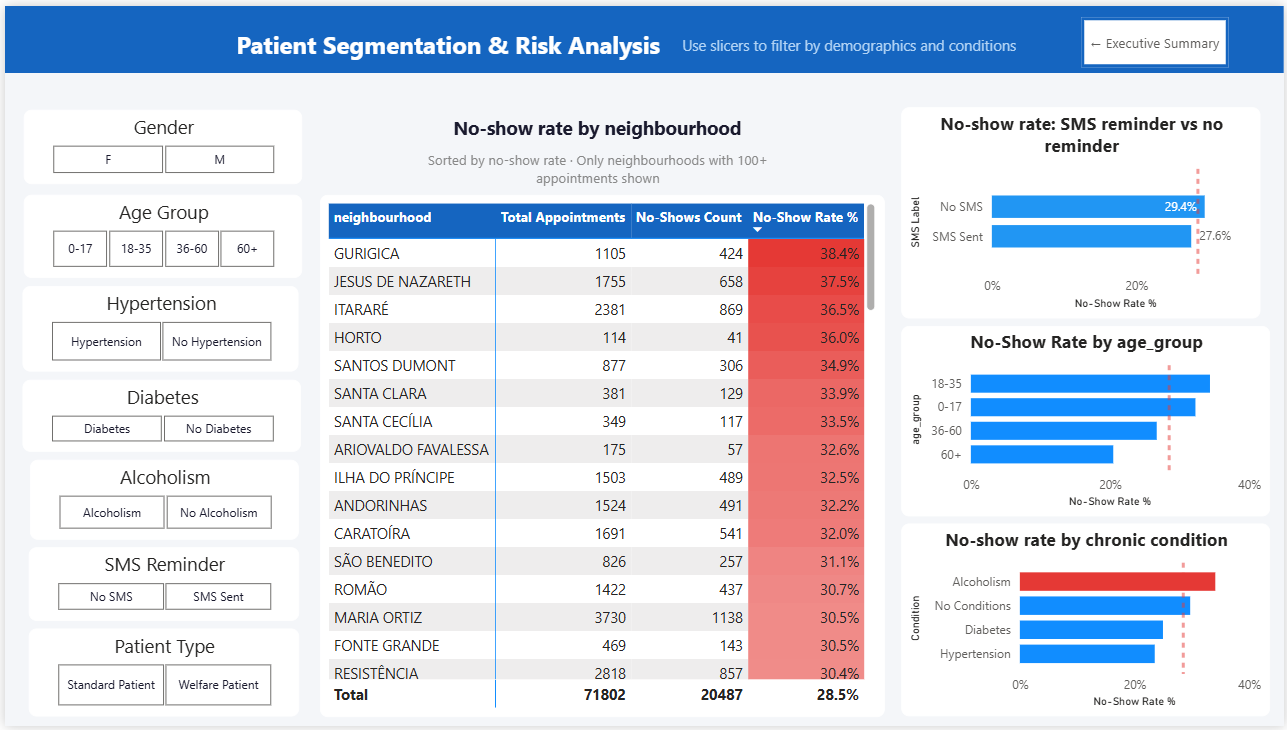

This screenshot's page, from the dashboard's own definition file:
{"tool":"powerbi","page":{"name":"Patient Segmentation","canvas":[1280,720],"ordinal":1},"visuals":[{"type":"shape","box":[0,0,1279.7,67],"z":0},{"type":"textbox","box":[226.2,17.5,492.5,55],"z":1000},{"type":"textbox","box":[528.8,23.8,487.5,100],"z":2000},{"type":"slicer","title":"Gender","fields":{"Values":["cleaned_appointments.gender"]},"box":[18.6,104.3,278.6,74.3],"z":3000},{"type":"slicer","title":"Age Group","fields":{"Values":["cleaned_appointments.age_group"]},"box":[18.6,188.6,278.6,82.9],"z":4000},{"type":"slicer","title":"Hypertension","fields":{"Values":["cleaned_appointments.Hypertension Label"]},"box":[18.1,279.9,276.3,85.7],"z":5000},{"type":"slicer","title":"Diabetes","fields":{"Values":["cleaned_appointments.Diabetes Label"]},"box":[18.1,374,278.7,72.4],"z":6000},{"type":"slicer","title":"Alcoholism","fields":{"Values":["cleaned_appointments.Alcoholism Label"]},"box":[25.3,453.6,269,79.6],"z":7000},{"type":"slicer","title":"SMS Reminder","fields":{"Values":["cleaned_appointments.SMS Label"]},"box":[24.1,541.7,270.2,73.6],"z":8000},{"type":"slicer","title":"Patient Type","fields":{"Values":["cleaned_appointments.Scholarship Label"]},"box":[24.1,622.5,270.2,88.1],"z":9000},{"type":"pivotTable","title":"No-show rate by neighbourhood","fields":{"Rows":["cleaned_appointments.neighbourhood"],"Values":["_measures.Total Appointments","_measures.No-Shows Count","_measures.No-Show Rate %"]},"box":[314.9,188.2,564.6,522.4],"z":10000},{"type":"textbox","box":[343.8,103.8,497.1,59.1],"z":11000},{"type":"textbox","box":[380,139.9,425.9,47.1],"z":12000},{"type":"clusteredBarChart","title":"No-show rate: SMS reminder vs no reminder","fields":{"Category":["cleaned_appointments.SMS Label"],"Y":["_measures.No-Show Rate %"]},"box":[896.4,101.3,359.5,211.1],"z":13000},{"type":"clusteredBarChart","title":"No-Show Rate by age_group","fields":{"Category":["cleaned_appointments.age_group"],"Y":["_measures.No-Show Rate %"]},"box":[896.4,319.7,369.2,190.6],"z":14000},{"type":"clusteredBarChart","title":"No-show rate by chronic condition","fields":{"Category":["Condition Summary.Condition"],"Y":["Sum(Condition Summary.No-Show Rate)"]},"box":[896.4,517.6,369.2,193],"z":15000},{"type":"actionButton","title":"Patient Segmentation →","box":[1076.2,11.2,147.5,50],"z":16000}]}

Visuals, with their boxes in screenshot pixels (x1, y1, x2, y2), scaled from the page's 1280x720 canvas onto the 1287x730 screenshot:
shape: box=[0, 0, 1286, 68]
textbox: box=[227, 18, 723, 74]
textbox: box=[532, 24, 1022, 126]
"Gender" slicer: box=[19, 106, 299, 181]
"Age Group" slicer: box=[19, 191, 299, 275]
"Hypertension" slicer: box=[18, 284, 296, 371]
"Diabetes" slicer: box=[18, 379, 298, 453]
"Alcoholism" slicer: box=[25, 460, 296, 541]
"SMS Reminder" slicer: box=[24, 549, 296, 624]
"Patient Type" slicer: box=[24, 631, 296, 720]
"No-show rate by neighbourhood" pivotTable: box=[317, 191, 884, 720]
textbox: box=[346, 105, 845, 165]
textbox: box=[382, 142, 810, 190]
"No-show rate: SMS reminder vs no reminder" clusteredBarChart: box=[901, 103, 1263, 317]
"No-Show Rate by age_group" clusteredBarChart: box=[901, 324, 1273, 517]
"No-show rate by chronic condition" clusteredBarChart: box=[901, 525, 1273, 720]
"Patient Segmentation →" actionButton: box=[1082, 11, 1230, 62]
